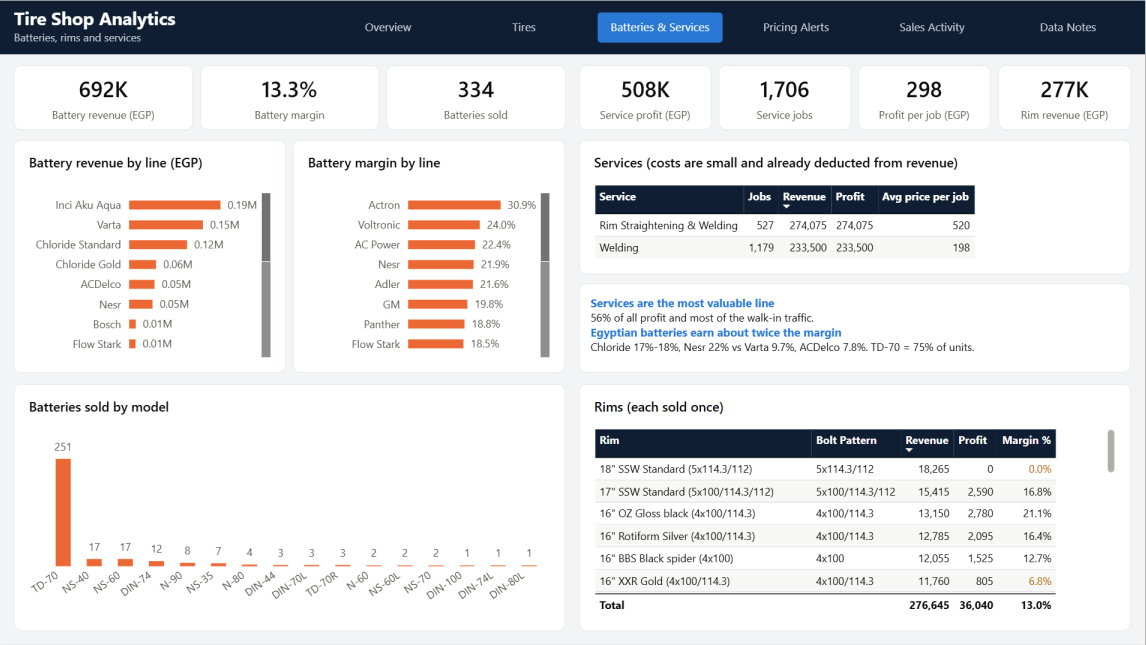

The dashboard page shown, as its layout file describes it:
{"tool":"powerbi","page":{"name":"Batteries & Services","canvas":[1280,720],"ordinal":2},"visuals":[{"type":"shape","box":[0,0,1280,60],"z":100},{"type":"textbox","box":[16,6,340,50],"z":200},{"type":"pageNavigator","box":[364,13,900,34],"z":300},{"type":"card","fields":{"Values":["Product Sales.Revenue"]},"box":[16,72,200,72],"z":400},{"type":"card","fields":{"Values":["Product Sales.Margin %"]},"box":[224,72,200,72],"z":500},{"type":"card","fields":{"Values":["Product Sales.Units Sold"]},"box":[432,72,200,72],"z":600},{"type":"card","fields":{"Values":["Product Sales.Profit"]},"box":[648,72,148,72],"z":700},{"type":"card","fields":{"Values":["Product Sales.Units Sold"]},"box":[804,72,148,72],"z":800},{"type":"card","fields":{"Values":["Product Sales.Profit per Unit"]},"box":[960,72,148,72],"z":900},{"type":"card","fields":{"Values":["Product Sales.Revenue"]},"box":[1116,72,148,72],"z":1000},{"type":"clusteredBarChart","title":"Battery revenue by line (EGP)","fields":{"Category":["Products.Product Line"],"Y":["Product Sales.Revenue"]},"box":[16,156,304,260],"z":1100},{"type":"clusteredBarChart","title":"Battery margin by line","fields":{"Category":["Products.Product Line"],"Y":["Product Sales.Margin %"]},"box":[328,156,304,260],"z":1200},{"type":"tableEx","title":"Services (costs are small and already deducted from revenue)","fields":{"Values":["Products.Product","Product Sales.Units Sold","Product Sales.Revenue","Product Sales.Profit","Product Sales.Avg Selling Price"]},"box":[648,156,616,150],"z":1300},{"type":"textbox","box":[648,316,616,100],"z":1400},{"type":"clusteredColumnChart","title":"Batteries sold by model","fields":{"Category":["Products.Battery Model"],"Y":["Product Sales.Units Sold"]},"box":[16,428,616,276],"z":1500},{"type":"tableEx","title":"Rims (each sold once)","fields":{"Values":["Products.Product","Products.Bolt Pattern","Product Sales.Revenue","Product Sales.Profit","Product Sales.Margin %"]},"box":[648,428,616,276],"z":1600}]}

Visuals, with their boxes in screenshot pixels (x1, y1, x2, y2), scaled from the page's 1280x720 canvas onto the 1146x645 screenshot:
shape: x1=0, y1=0, x2=1145, y2=54
textbox: x1=14, y1=5, x2=319, y2=50
pageNavigator: x1=326, y1=12, x2=1132, y2=42
card - Product Sales.Revenue: x1=14, y1=64, x2=193, y2=129
card - Product Sales.Margin %: x1=201, y1=64, x2=380, y2=129
card - Product Sales.Units Sold: x1=387, y1=64, x2=566, y2=129
card - Product Sales.Profit: x1=580, y1=64, x2=713, y2=129
card - Product Sales.Units Sold: x1=720, y1=64, x2=852, y2=129
card - Product Sales.Profit per Unit: x1=860, y1=64, x2=992, y2=129
card - Product Sales.Revenue: x1=999, y1=64, x2=1132, y2=129
"Battery revenue by line (EGP)" clusteredBarChart: x1=14, y1=140, x2=286, y2=373
"Battery margin by line" clusteredBarChart: x1=294, y1=140, x2=566, y2=373
"Services (costs are small and already deducted from revenue)" tableEx: x1=580, y1=140, x2=1132, y2=274
textbox: x1=580, y1=283, x2=1132, y2=373
"Batteries sold by model" clusteredColumnChart: x1=14, y1=383, x2=566, y2=631
"Rims (each sold once)" tableEx: x1=580, y1=383, x2=1132, y2=631
